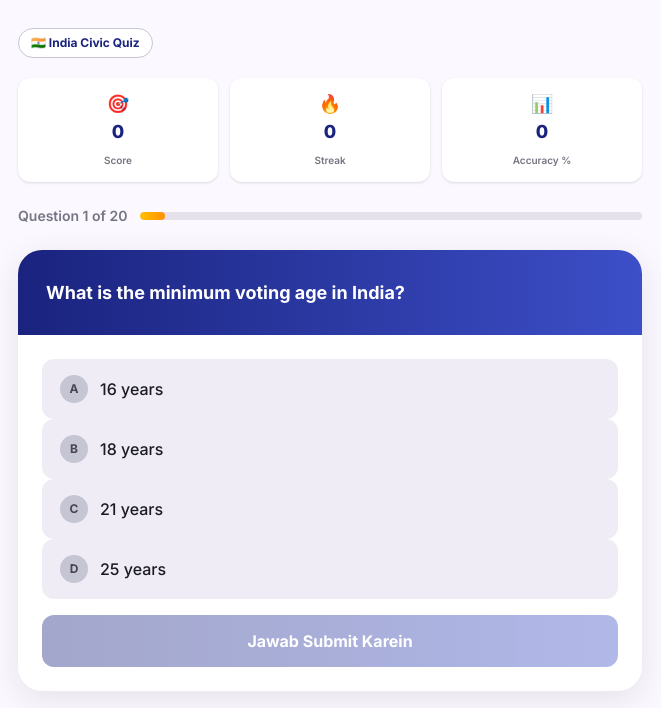
Test: QuizPage › shows submit button and allows selecting an option
# Click first option
Step 1. Click the button "A 16 years" → {"x": 132, "y": 389}, box [42,359,618,419]
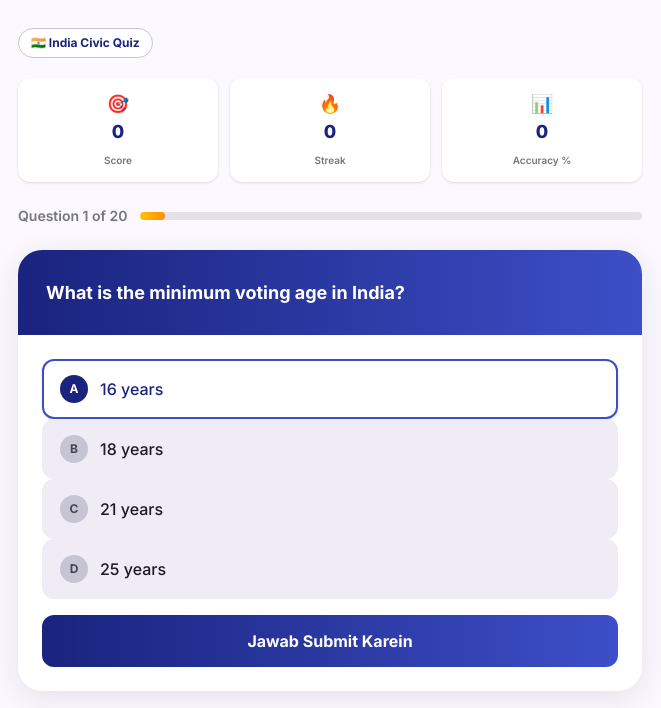
Now the button "Jawab Submit Karein" is enabled
Step 2. Click the button "Jawab Submit Karein" → {"x": 330, "y": 641}, box [42,615,618,667]
(page scrolled)
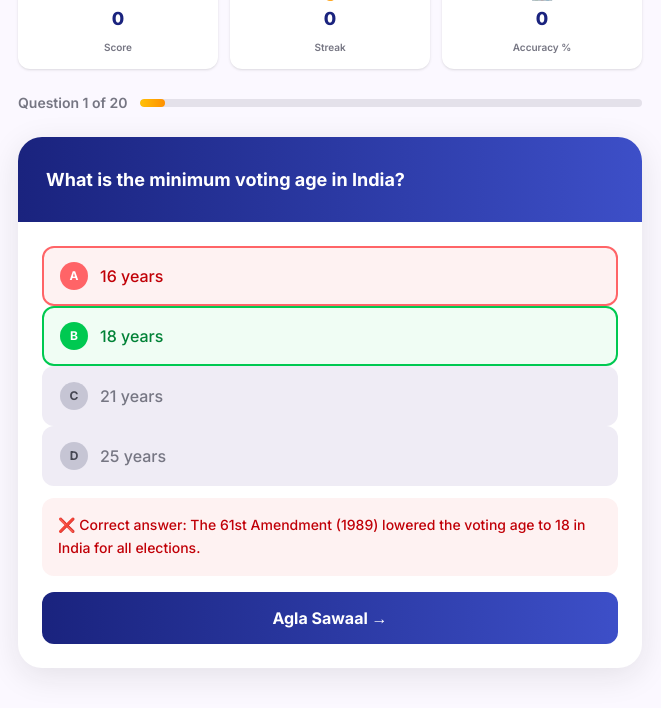
Now the button "Agla Sawaal →" is shown, box [42,592,618,644]
